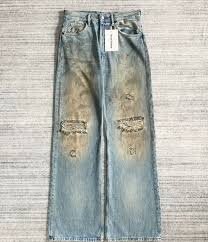earth: (62, 62, 93, 157), (116, 65, 141, 156)
